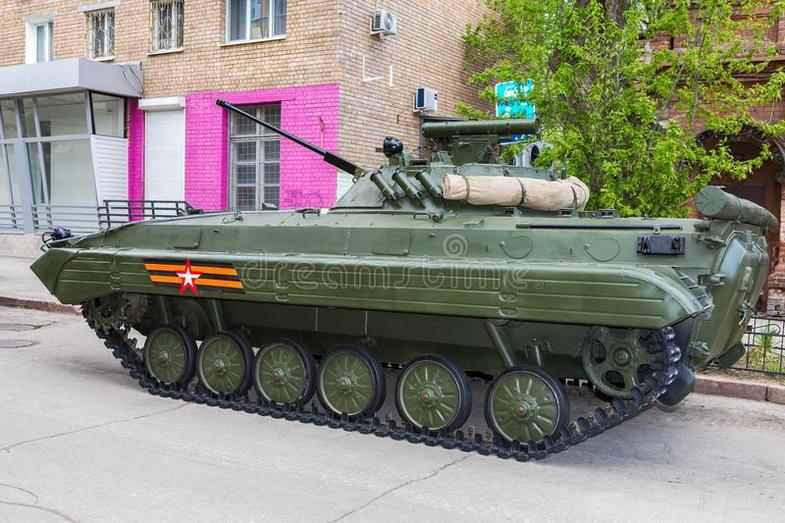bmp: (52, 128, 768, 461)
